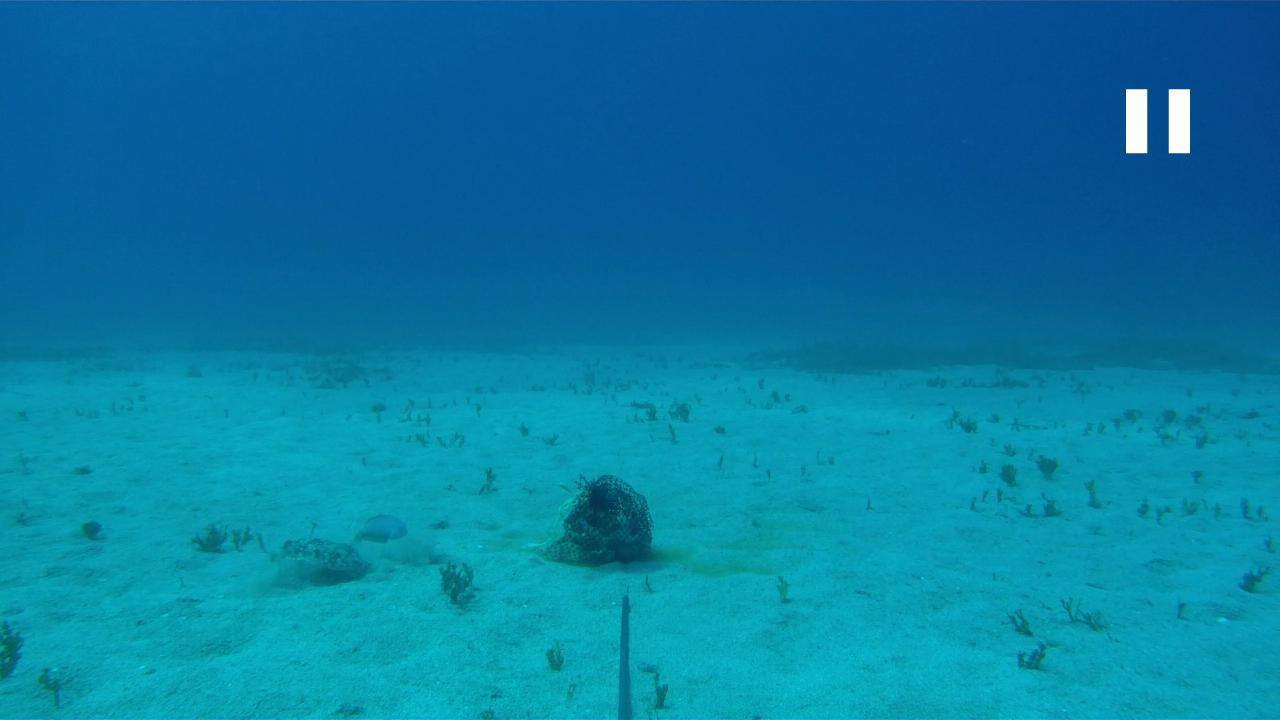bothus: (264, 527, 368, 577)
